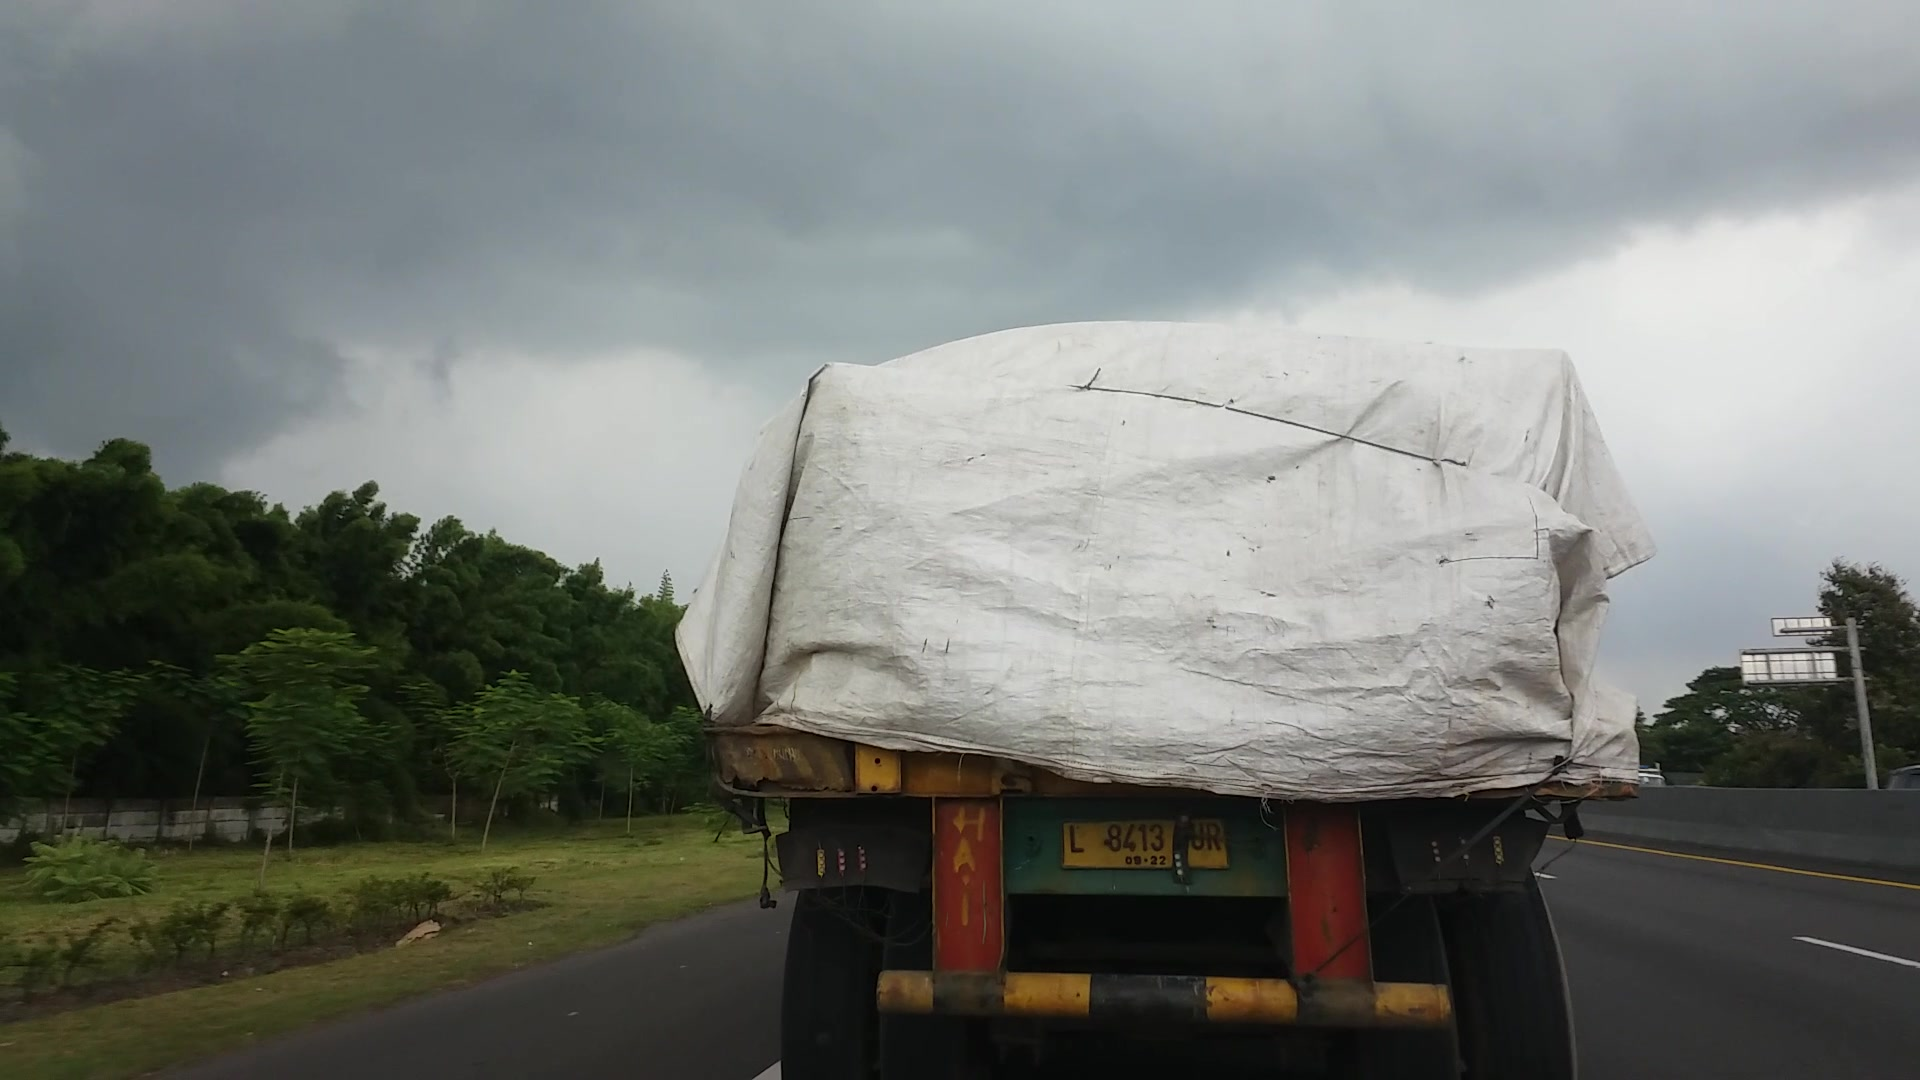plate_positive: (1062, 818, 1229, 872)
